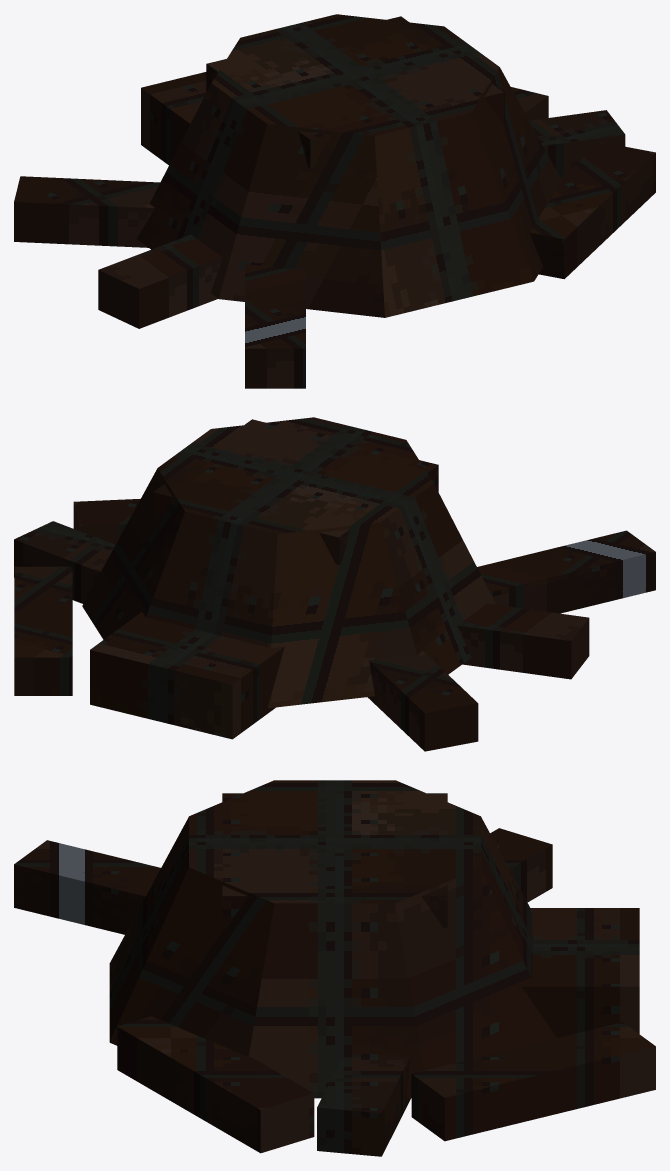
Rendered from enemy_role_scuttler.glb.
The picture shows the model from 3 angles, top to bottom: view 1: azimuth 30°, elevation 25°; view 2: azimuth 150°, elevation 25°; view 3: azimuth 270°, elevation 25°; orthographic projection. The views are drawn at different scales.
Parts seen in each view (by area): view 1: enemy_role_scuttler; view 2: enemy_role_scuttler; view 3: enemy_role_scuttler.
Part boxes in pixels (x1,y1,x2,y2): enemy_role_scuttler: [14, 14, 655, 388]; enemy_role_scuttler: [14, 417, 655, 751]; enemy_role_scuttler: [14, 780, 655, 1156].
Size of the model in its own units: 1.24 by 0.341 by 1.16.
4 materials, 4 textured.
